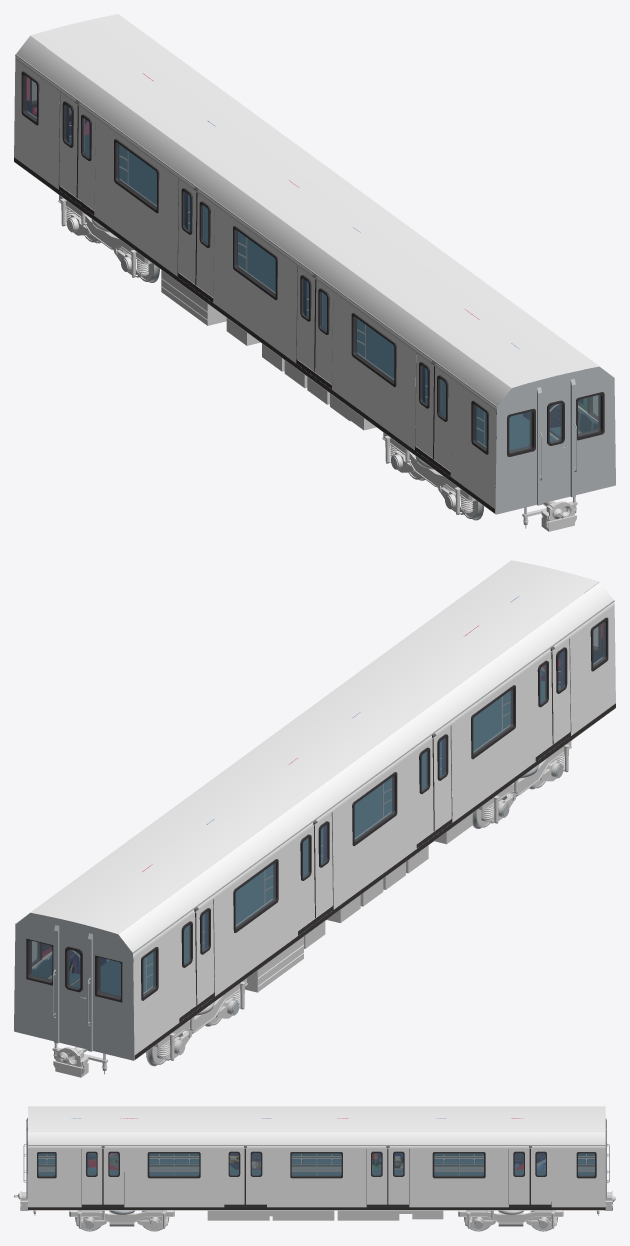
File: car-3.glb
3 renders of one model, top to bottom at view 1: azimuth 30°, elevation 25°; view 2: azimuth 150°, elevation 25°; view 3: azimuth 270°, elevation 25°, orthographic. The views are drawn at different scales.
Visible parts, largest first — view 1: Mesh492.008, Mesh589.001, Mesh253.001, Mesh560.001, Mesh524.002, Cube.081, Cube.082, Cube.080, Mesh11.001, Mesh511.001, Mesh31.001, Cube.119 (+8 smaller); view 2: Mesh492.008, Mesh589.001, Mesh584.001, Mesh253.002, Mesh510.002, Cube.080, Cube.081, Cube.082, Mesh11.001, Mesh511.001, Mesh27.001, Cube.130 (+8 smaller); view 3: Mesh492.008, Mesh492.009, Cube.042, Cube.075, Cube.024, Mesh589.001, Mesh5.001, Mesh4.001, Mesh9.001, Mesh256.001, Mesh278.001, Mesh283.001 (+24 smaller).
Boxes of the visible parts, box(x1,y1,x2,y2) form: Mesh492.008: box(14, 14, 599, 514); Mesh589.001: box(69, 134, 556, 450); Mesh253.001: box(495, 376, 555, 514); Mesh560.001: box(555, 366, 615, 499); Mesh524.002: box(542, 395, 570, 493); Cube.081: box(235, 230, 275, 295); Cube.082: box(116, 143, 156, 208); Cube.080: box(354, 316, 394, 382); Mesh11.001: box(161, 270, 226, 325); Mesh511.001: box(15, 54, 497, 407); Mesh31.001: box(541, 500, 576, 531); Cube.119: box(578, 394, 600, 436); Mesh492.008: box(30, 560, 615, 1060); Mesh589.001: box(73, 681, 571, 995); Mesh584.001: box(74, 922, 134, 1060); Mesh253.002: box(14, 913, 73, 1045); Mesh510.002: box(59, 941, 87, 1039); Cube.080: box(473, 689, 513, 754); Cube.081: box(354, 775, 394, 841); Cube.082: box(235, 862, 275, 928); Mesh11.001: box(245, 937, 303, 992); Mesh511.001: box(132, 600, 614, 953); Mesh27.001: box(53, 1047, 88, 1077); Cube.130: box(29, 940, 52, 981); Mesh492.008: box(28, 1106, 605, 1210); Mesh492.009: box(87, 1153, 545, 1169); Cube.042: box(291, 1153, 341, 1175); Cube.075: box(149, 1153, 199, 1175); Cube.024: box(434, 1153, 483, 1175); Mesh589.001: box(38, 1170, 594, 1175); Mesh5.001: box(207, 1210, 269, 1220); Mesh4.001: box(337, 1210, 399, 1220); Mesh9.001: box(272, 1210, 334, 1220); Mesh256.001: box(511, 1210, 563, 1229); Mesh278.001: box(122, 1210, 174, 1229); Mesh283.001: box(69, 1210, 121, 1229).
Bounding box in the file's own units: 2.67 × 3.63 × 19.13.
58 materials, 1 textured.
